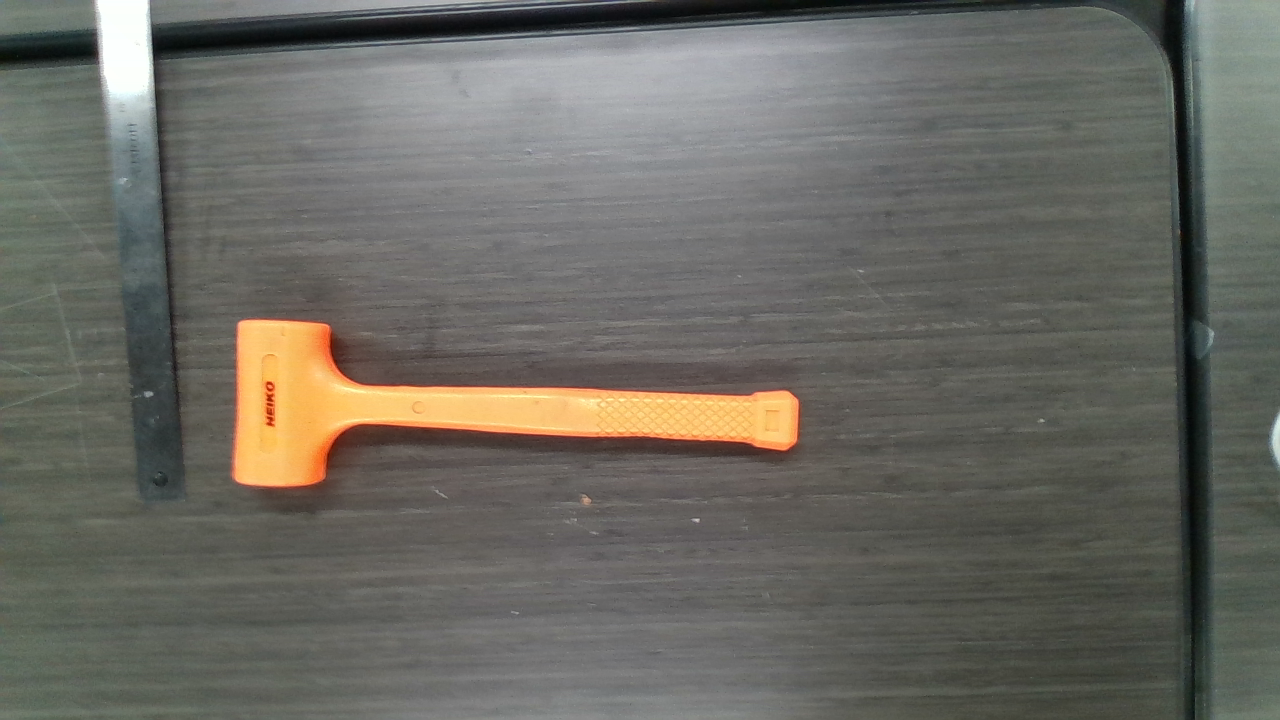Orange Hammer: (241, 320, 804, 487)
